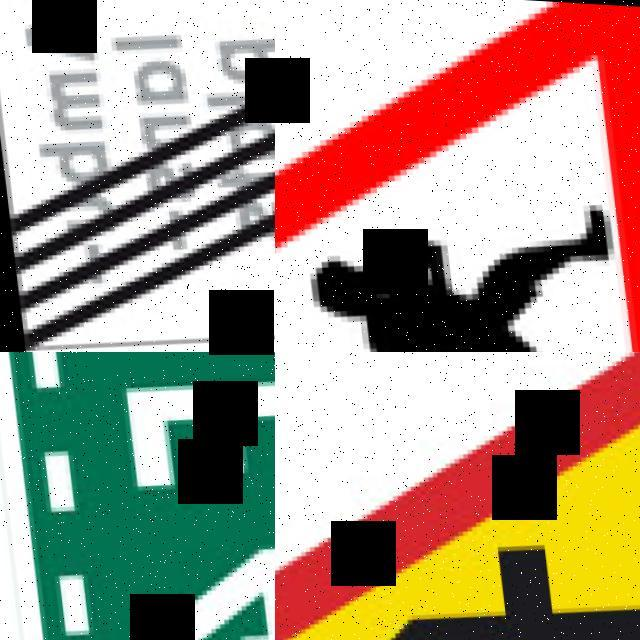115: (0, 0, 275, 352)
166: (275, 352, 640, 640)
Road number sign: (0, 352, 275, 640)
School: (275, 0, 640, 352)
